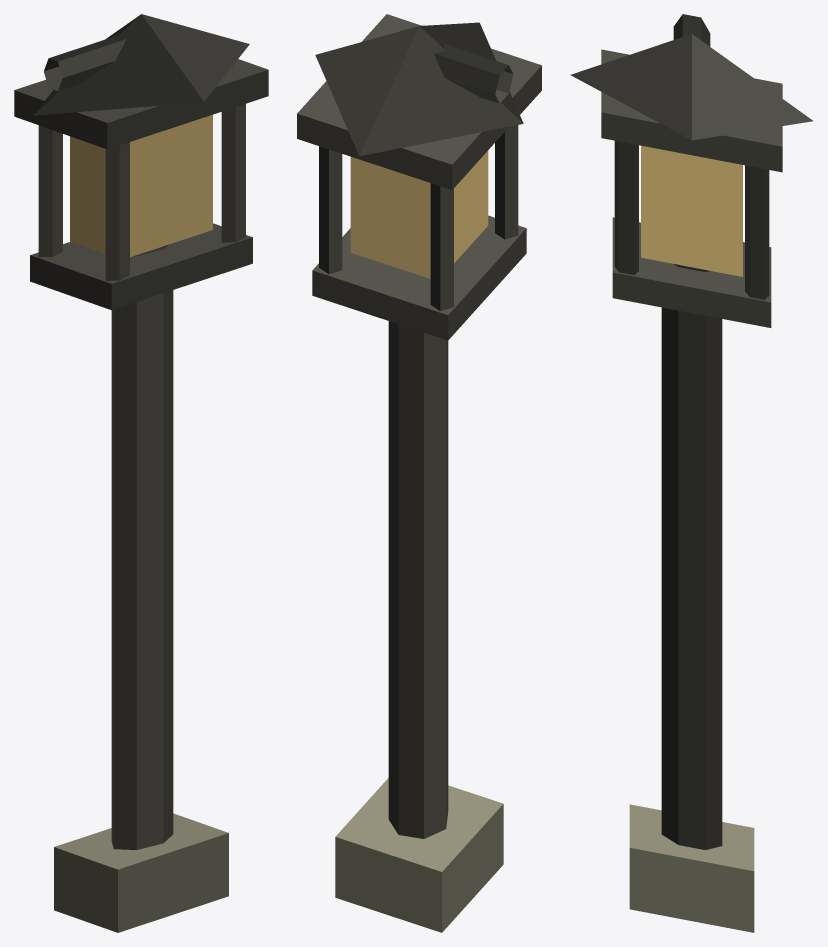
3 views of the same model, side by side, from view 1: azimuth 30°, elevation 25°; view 2: azimuth 150°, elevation 25°; view 3: azimuth 270°, elevation 25° (orthographic). The views are drawn at different scales.
Parts seen in each view (by area): view 1: 3cf4501dfa5f8a2a7dd7181298702a1bc957f8b9195aae6a05cf08006443; view 2: 3cf4501dfa5f8a2a7dd7181298702a1bc957f8b9195aae6a05cf08006443; view 3: 3cf4501dfa5f8a2a7dd7181298702a1bc957f8b9195aae6a05cf08006443.
Boxes of the visible parts, bbox=[...] form: 3cf4501dfa5f8a2a7dd7181298702a1bc957f8b9195aae6a05cf08006443: bbox=[14, 14, 268, 932]; 3cf4501dfa5f8a2a7dd7181298702a1bc957f8b9195aae6a05cf08006443: bbox=[297, 14, 541, 932]; 3cf4501dfa5f8a2a7dd7181298702a1bc957f8b9195aae6a05cf08006443: bbox=[570, 14, 813, 932].
Bounding box in the file's own units: 0.86 × 3.43 × 0.86.
Materials: 2 (1 with a texture image).
